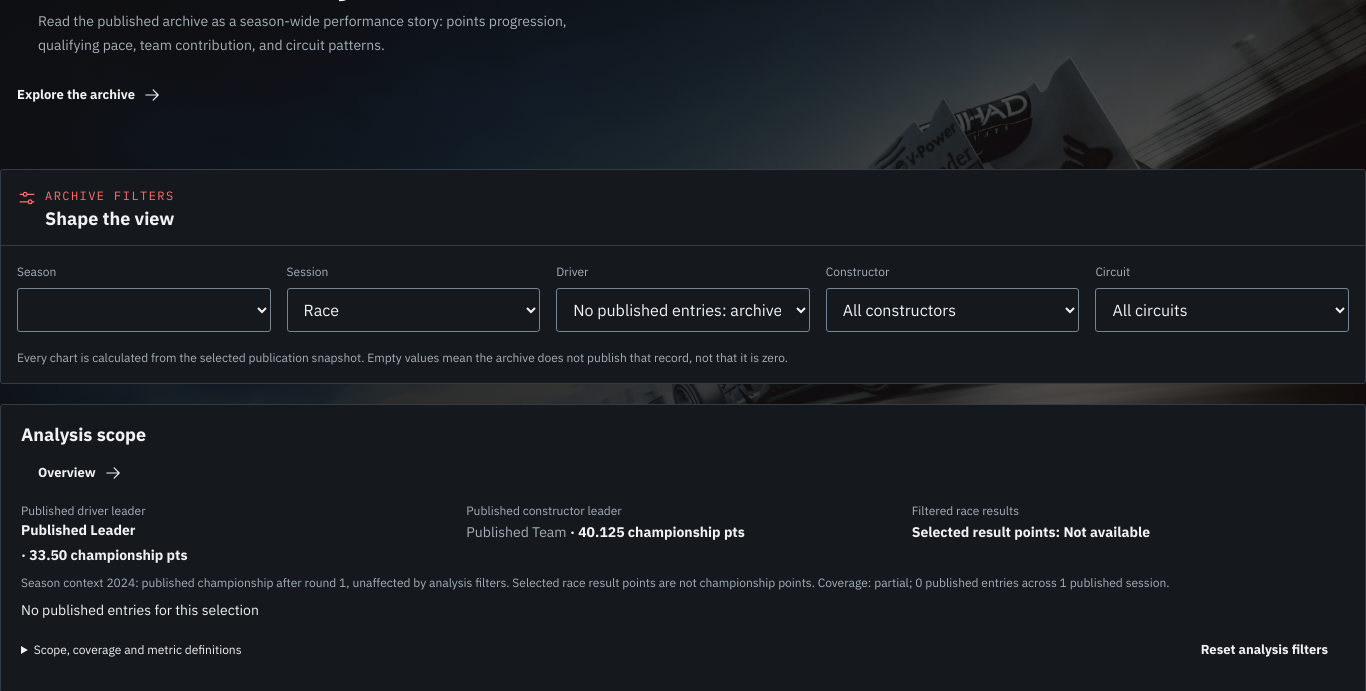
Scenario: UX-11 empty filtered scope stays explicit with null points and reset while championship remains distinct
Expected: the text "No published entries for this selection" is shown, [21,601,259,619]
Expected: the text "Published Leader · 33.50 championship pts" is shown, [21,521,188,564]
Click the button "Reset analysis filters". click: (1264, 650)
box: [1184,628,1345,672]
(page scrolled)
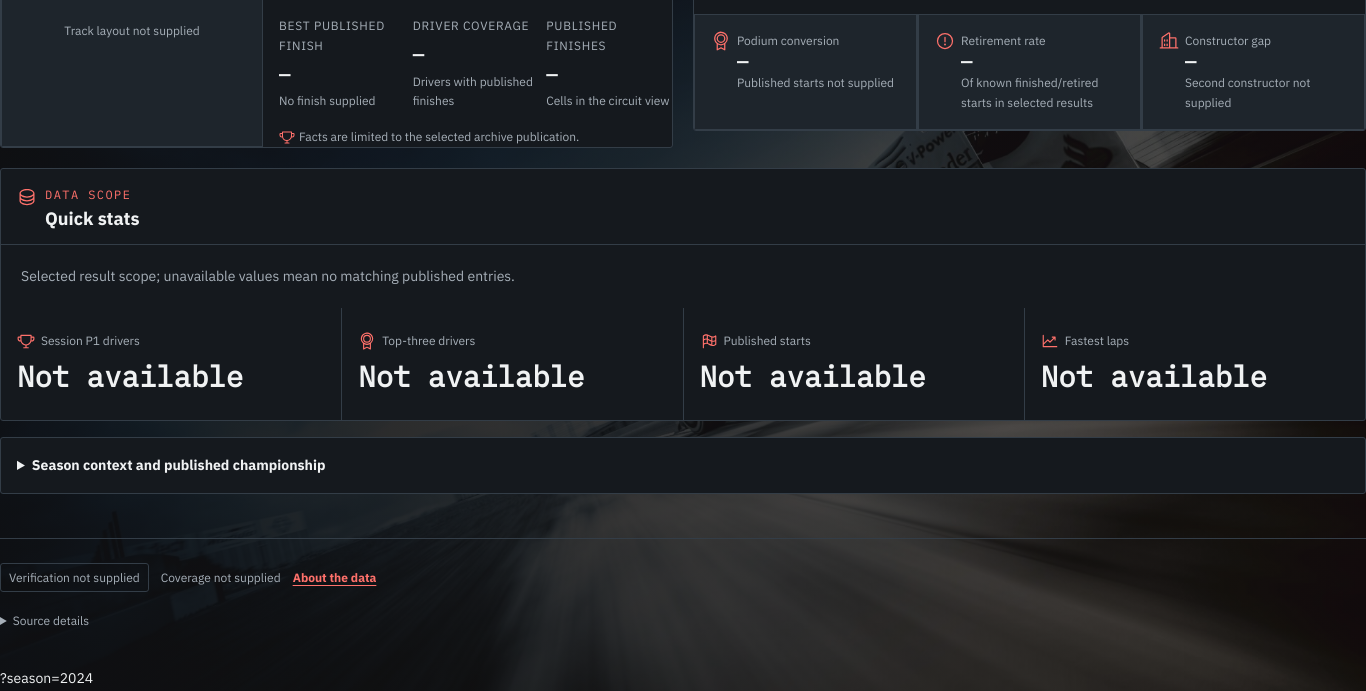
Result: the text named "Current density URL" reads "?season=2024" at [0,669,93,687]
